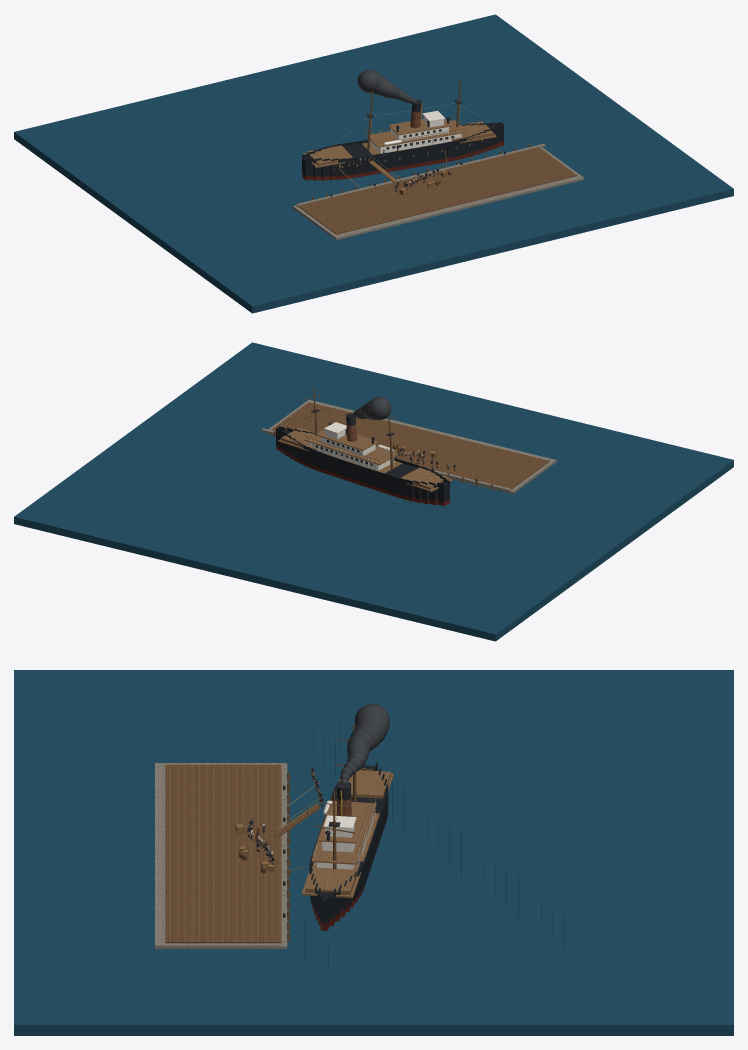
Rendered from 20.banten_exile_1888_scene-compressed.glb.
The picture shows the model from 3 angles, top to bottom: view 1: azimuth 30°, elevation 25°; view 2: azimuth 150°, elevation 25°; view 3: azimuth 270°, elevation 25°; orthographic projection. The views are drawn at different scales.
Visible parts, largest first — view 1: Harbor_Dock_And_Water, Colonial_Steamship_1888; view 2: Harbor_Dock_And_Water, Colonial_Steamship_1888; view 3: Harbor_Dock_And_Water, Colonial_Steamship_1888.
Boxes of the visible parts, box(x1,y1,x2,y2) form: Harbor_Dock_And_Water: box(14, 14, 733, 313); Colonial_Steamship_1888: box(302, 69, 503, 180); Harbor_Dock_And_Water: box(14, 342, 733, 641); Colonial_Steamship_1888: box(276, 386, 452, 506); Harbor_Dock_And_Water: box(14, 670, 733, 1035); Colonial_Steamship_1888: box(301, 704, 393, 930).
Bounding box in the file's own units: 140 × 27.43 × 120.
Materials: 30 (12 with a texture image).
